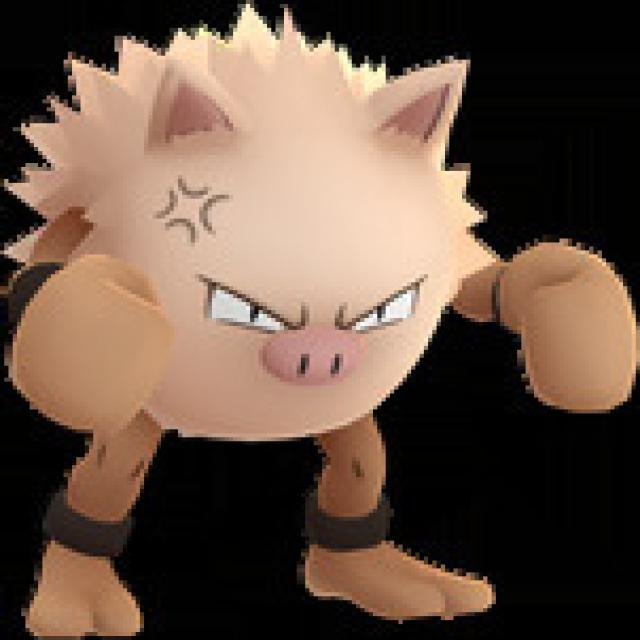Primeape: (23, 2, 528, 608)
